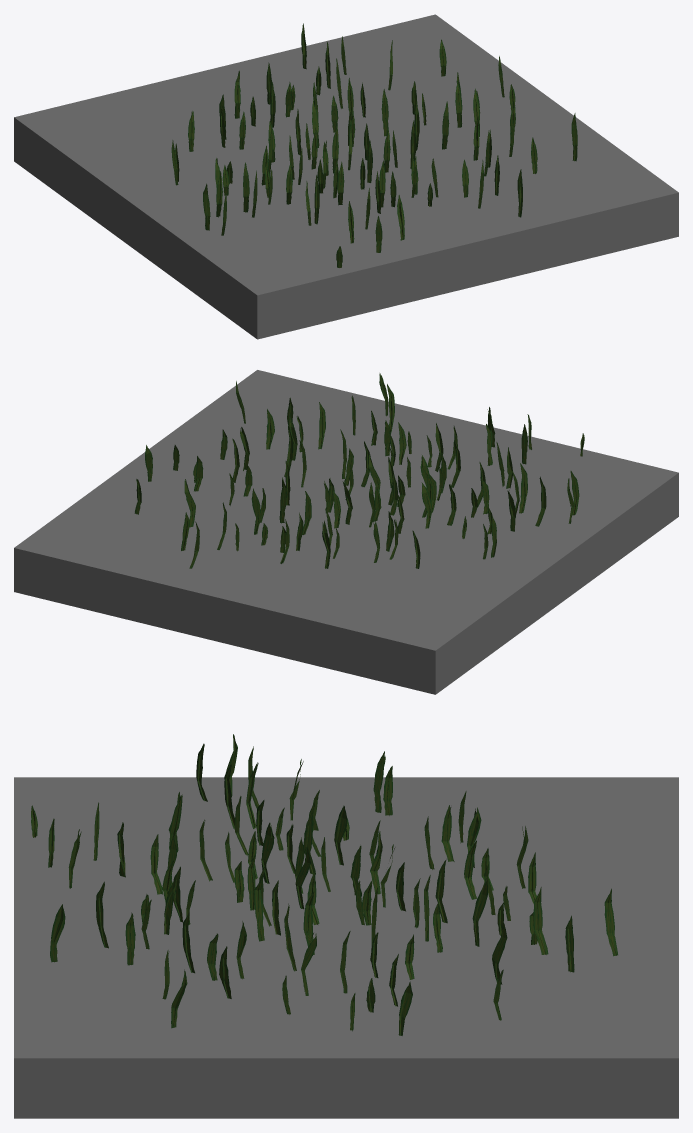
Rendered from ground_tile_grass.fbx.
3 views of the same model, one above another, from view 1: azimuth 30°, elevation 25°; view 2: azimuth 150°, elevation 25°; view 3: azimuth 270°, elevation 25° (orthographic). The views are drawn at different scales.
Parts seen in each view (by area): view 1: Cube_lp.001, groundTile_grass; view 2: Cube_lp.001, groundTile_grass; view 3: Cube_lp.001, groundTile_grass.
Part boxes in pixels (<box>): Cube_lp.001: <box>14,14,678,339</box>; groundTile_grass: <box>171,23,577,267</box>; Cube_lp.001: <box>14,370,678,694</box>; groundTile_grass: <box>134,373,584,568</box>; Cube_lp.001: <box>14,777,678,1118</box>; groundTile_grass: <box>31,734,617,1035</box>.
Bounding box in the file's own units: 200 × 44.99 × 200.
